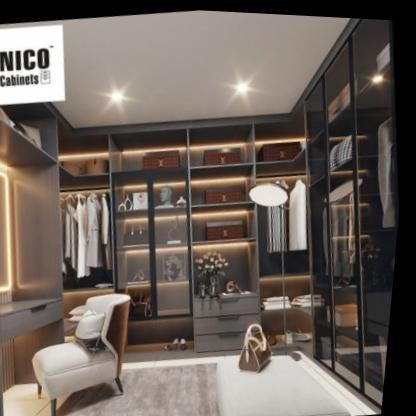Transparent Closet: (60, 112, 317, 342), (307, 14, 400, 404)
